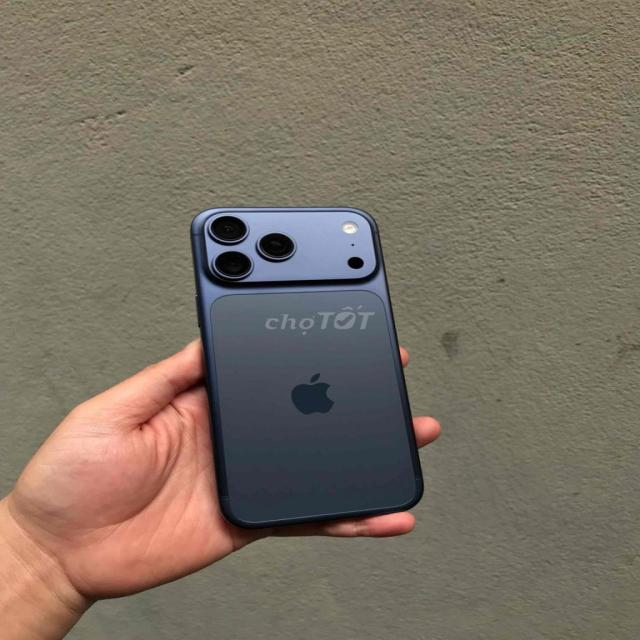gen_17: (184, 194, 440, 541)
